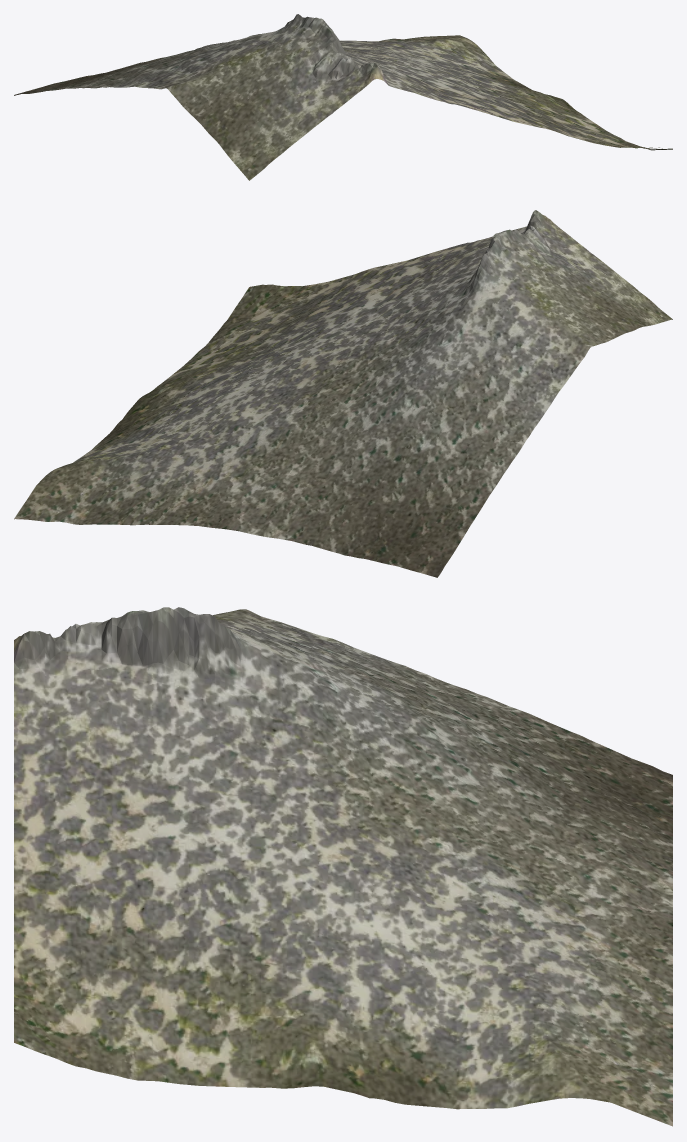
The picture shows the model from 3 angles, top to bottom: view 1: azimuth 30°, elevation 25°; view 2: azimuth 150°, elevation 25°; view 3: azimuth 270°, elevation 25°; orthographic projection. The views are drawn at different scales.
Size of the model in its own units: 500 by 254 by 481.
1 material, 1 textured.
